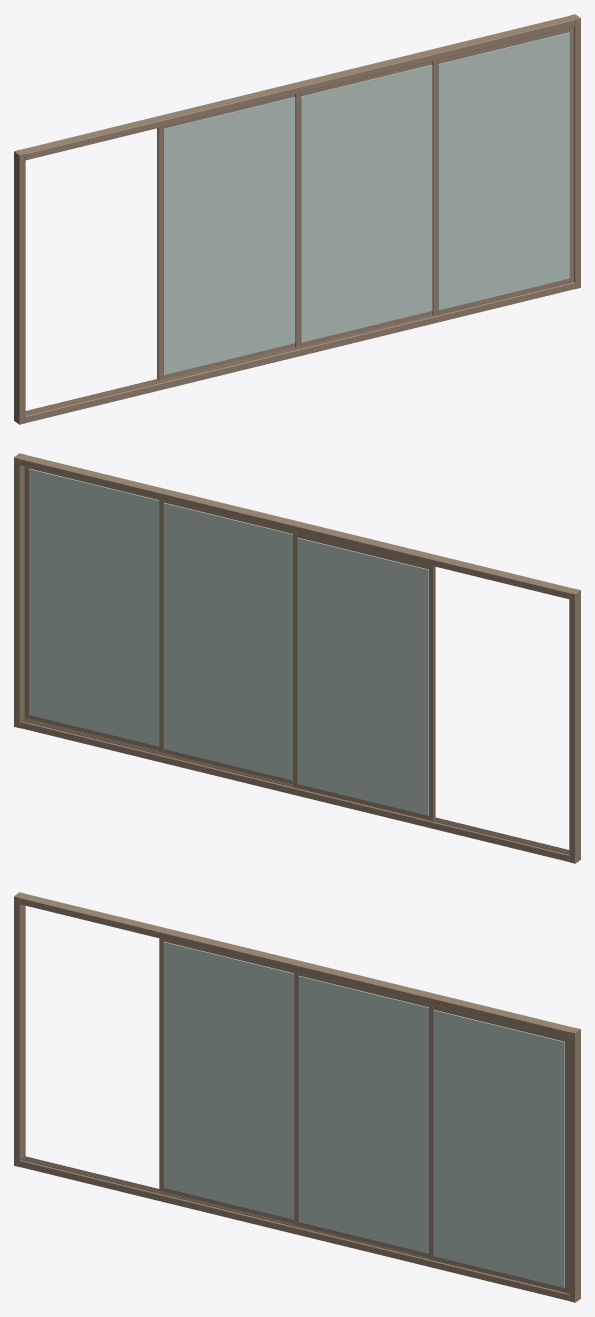
The model's file is co-S86RP-4-quartz-1019-ouvert.glb.
3 renders of one model, top to bottom at view 1: azimuth 30°, elevation 25°; view 2: azimuth 150°, elevation 25°; view 3: azimuth 330°, elevation 25°, orthographic.
Visible parts, largest first — view 1: verre, structure; view 2: verre, structure; view 3: verre, structure.
Part boxes in pixels (left/top/right/bottom): verre: left=163, top=32, right=569, bottom=374; structure: left=14, top=14, right=580, bottom=424; verre: left=29, top=468, right=428, bottom=815; structure: left=14, top=453, right=580, bottom=863; verre: left=163, top=941, right=564, bottom=1287; structure: left=14, top=892, right=580, bottom=1302.
Bounding box in the file's own units: 4.8 × 2.2 × 0.086.
